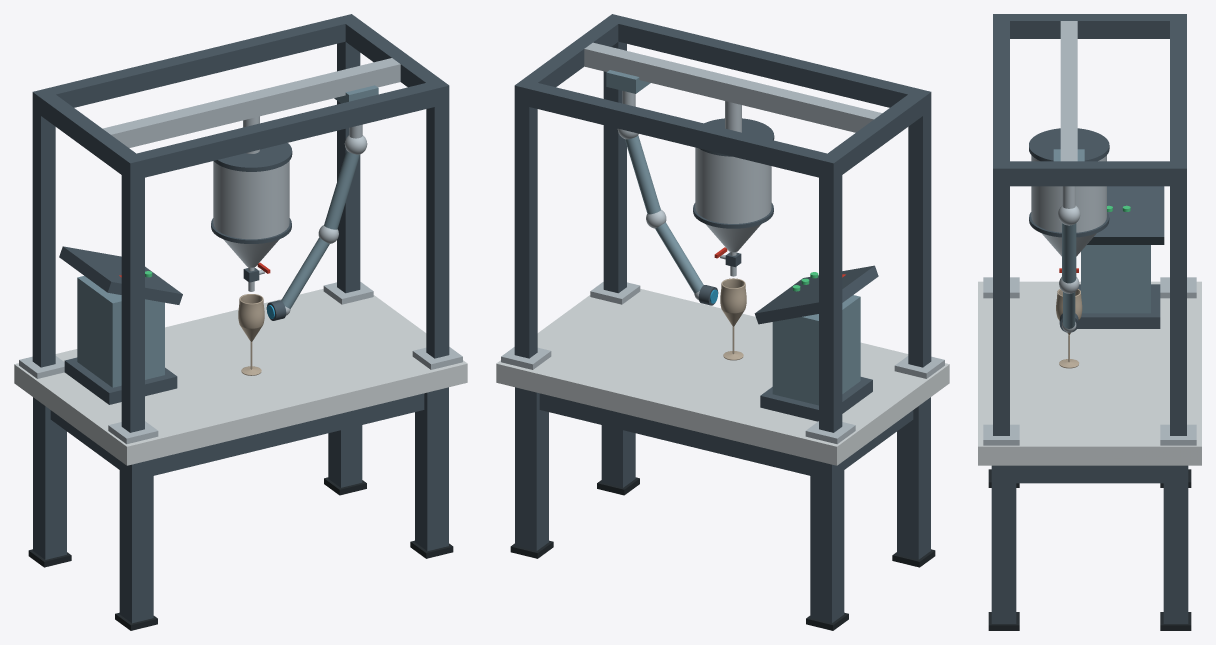
The model's file is 3dcodebench_Wineglass_seed0_L6_Q0__gpt61_sol.glb.
3 views of the same model, side by side, from view 1: azimuth 30°, elevation 25°; view 2: azimuth 150°, elevation 25°; view 3: azimuth 270°, elevation 25° (orthographic).
Visible parts, largest first — view 1: object; view 2: object; view 3: object.
Boxes of the visible parts, x1=… form: object: x1=14, y1=14, x2=467, y2=630; object: x1=496, y1=14, x2=949, y2=630; object: x1=978, y1=14, x2=1201, y2=630.
Bounding box in the file's own units: 1.5 × 1.96 × 0.86.
